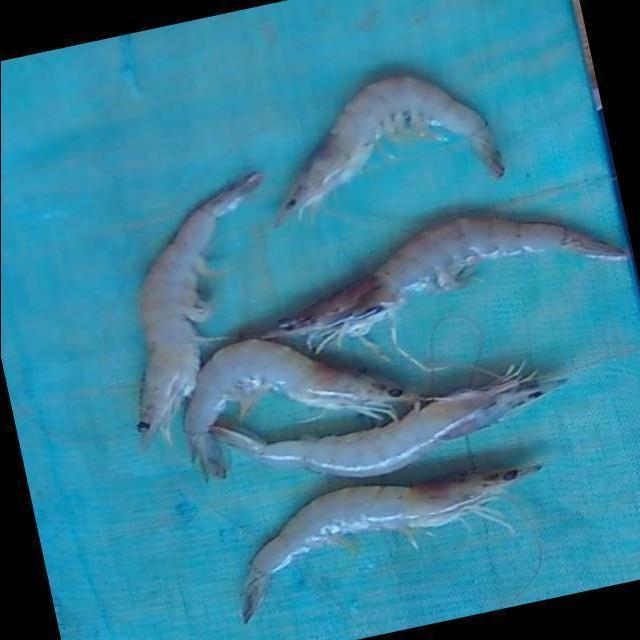shrimp: (261, 217, 627, 351), (243, 466, 542, 623), (211, 366, 567, 477), (277, 76, 505, 224), (184, 339, 424, 479), (138, 173, 262, 441)
